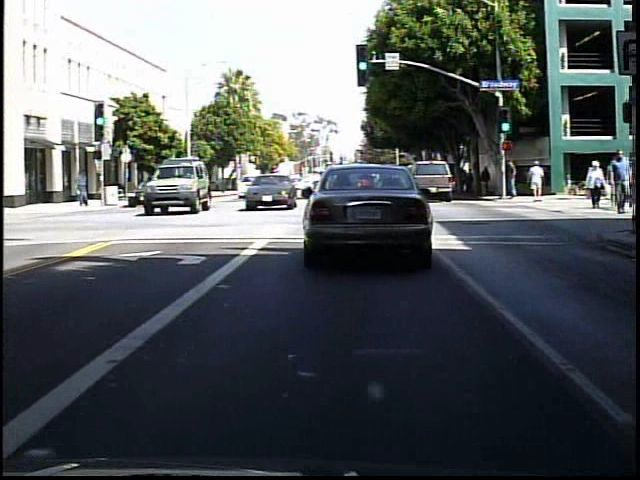person: (608, 151, 631, 218), (582, 161, 608, 211), (499, 158, 519, 206), (525, 160, 545, 206), (76, 170, 94, 209), (478, 166, 493, 199), (464, 167, 477, 199)
